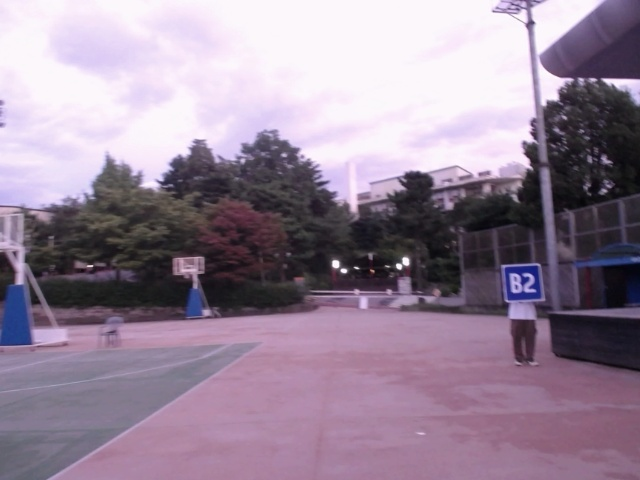delivery_b2: (502, 262, 546, 303)
